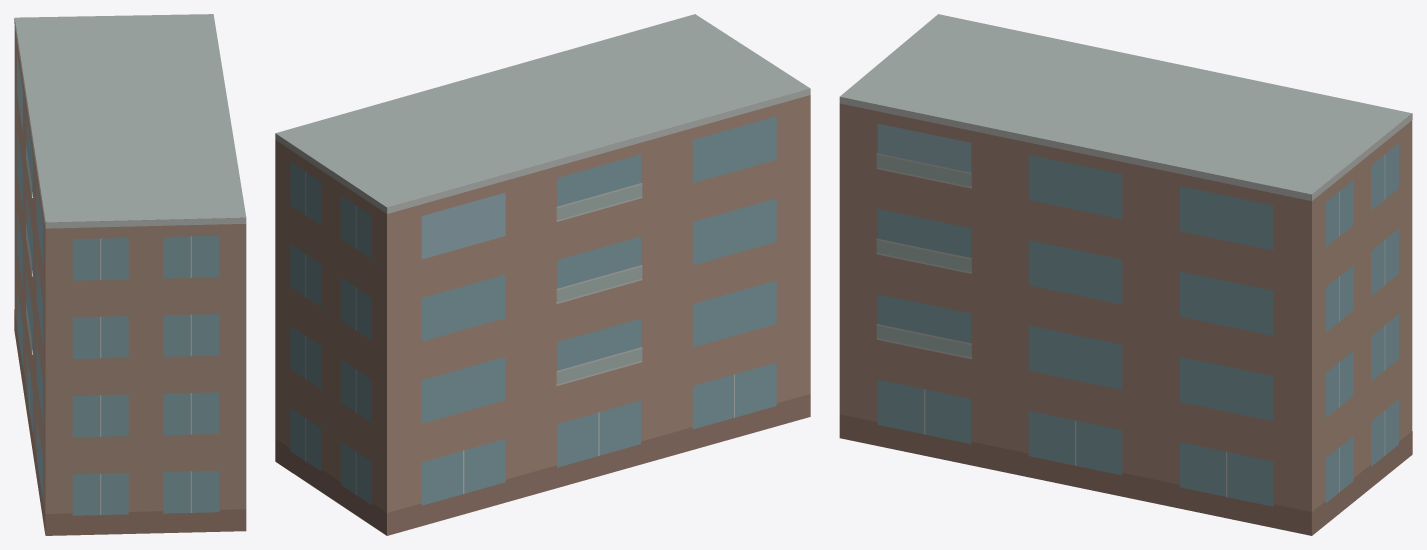
The model's file is survey-upis-32890205.glb.
3 views of the same model, side by side, from view 1: azimuth 30°, elevation 25°; view 2: azimuth 150°, elevation 25°; view 3: azimuth 270°, elevation 25° (orthographic). The views are drawn at different scales.
Visible parts, largest first — view 1: survey-upis-32890205.tmp; view 2: survey-upis-32890205.tmp; view 3: survey-upis-32890205.tmp.
Boxes of the visible parts, left/top/right/bottom form: survey-upis-32890205.tmp: left=14, top=14, right=246, bottom=535; survey-upis-32890205.tmp: left=275, top=14, right=810, bottom=535; survey-upis-32890205.tmp: left=839, top=14, right=1412, bottom=535.
Size of the model in its own units: 14.07 by 12.4 by 18.87.
